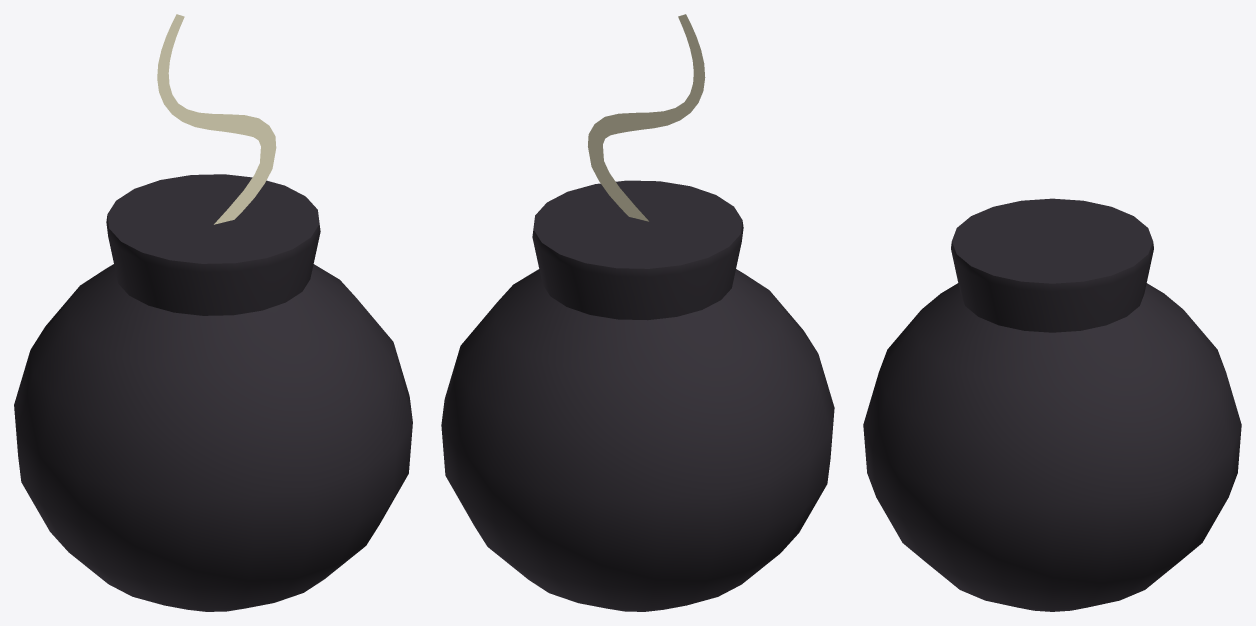
Rendered from Enemy_GoblinProjectile_001.fbx.
3 renders of one model, left to right at view 1: azimuth 30°, elevation 25°; view 2: azimuth 150°, elevation 25°; view 3: azimuth 270°, elevation 25°, orthographic. The views are drawn at different scales.
Visible parts, largest first — view 1: bomb:bomb2; view 2: bomb:bomb2; view 3: bomb:bomb2.
Boxes of the visible parts, <box> form: bomb:bomb2: <box>14,14,412,611</box>; bomb:bomb2: <box>441,14,834,611</box>; bomb:bomb2: <box>863,198,1241,611</box>.
Bounding box in the file's own units: 23.3 × 38.15 × 23.3.
